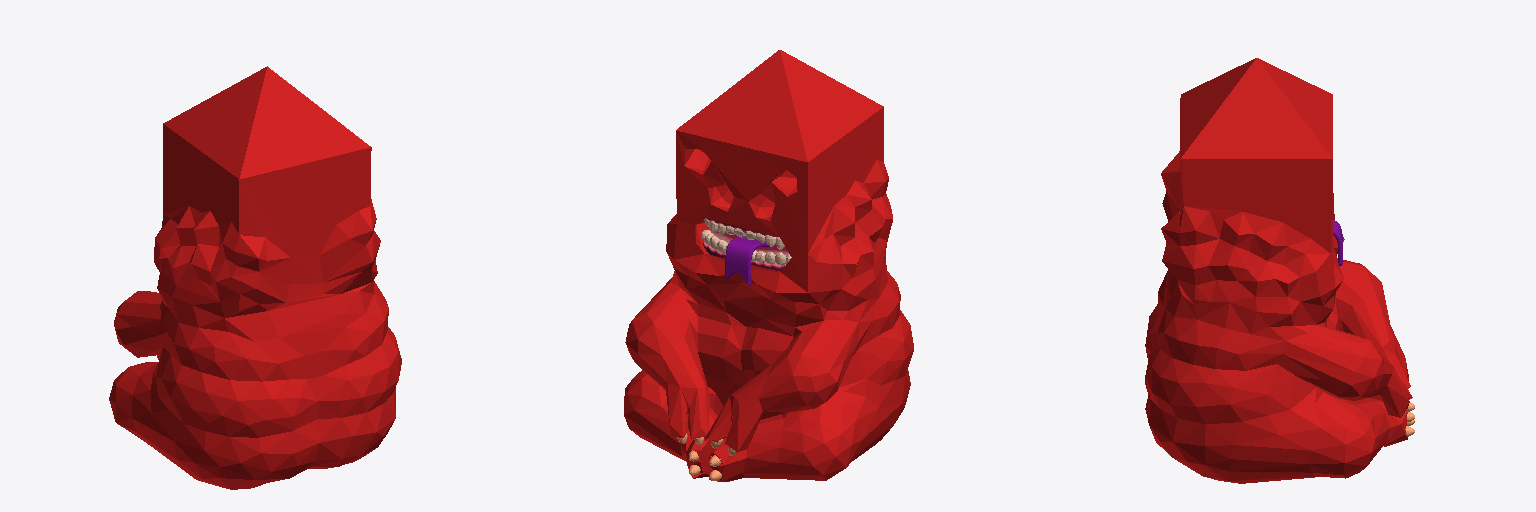
The picture shows the model from 3 angles: view 1: azimuth 30°, elevation 25°; view 2: azimuth 150°, elevation 25°; view 3: azimuth 270°, elevation 25°; orthographic projection.
Parts seen in each view (by area): view 1: model_4; view 2: model_4, model_2, model_3, model_1, model_5; view 3: model_4.
Part boxes in pixels (x1,y1,x2,y2): model_4: (109, 66, 401, 489); model_4: (624, 50, 913, 481); model_2: (702, 230, 791, 271); model_3: (725, 237, 769, 285); model_1: (704, 218, 784, 249); model_5: (677, 433, 737, 480); model_4: (1145, 58, 1412, 483).
Bounding box in the file's own units: 169 × 286 × 177.
5 materials, 5 textured.